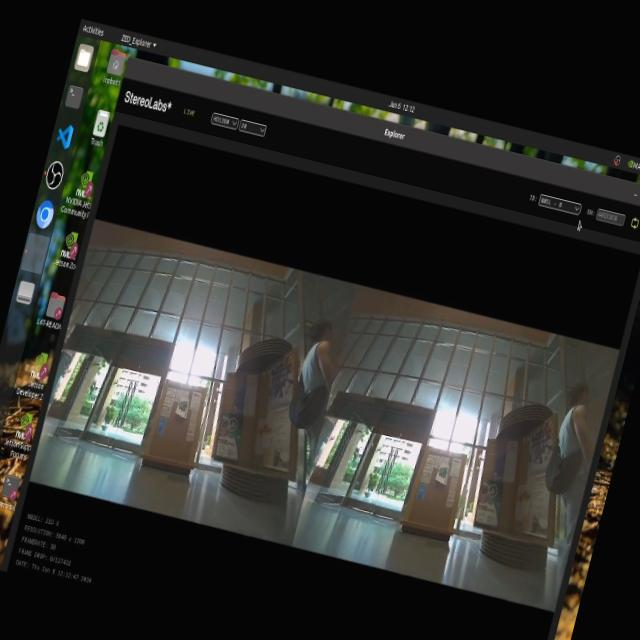green: (174, 390, 193, 418), (434, 462, 452, 488)
